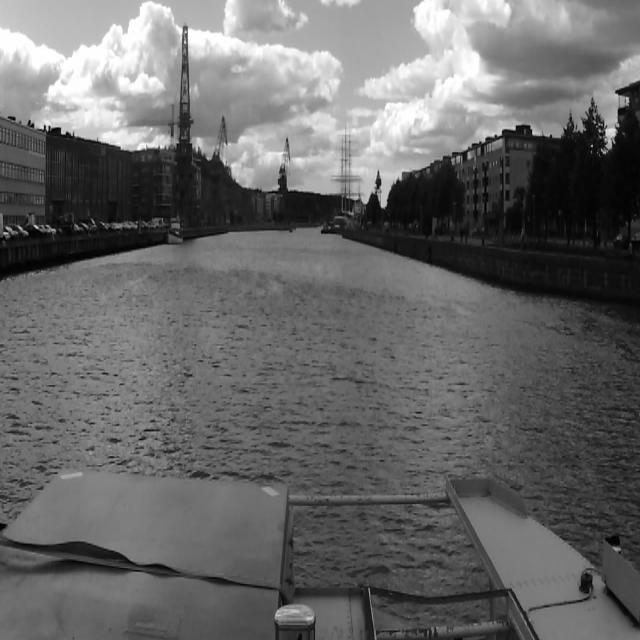ship: (331, 122, 363, 220), (167, 217, 183, 243)
